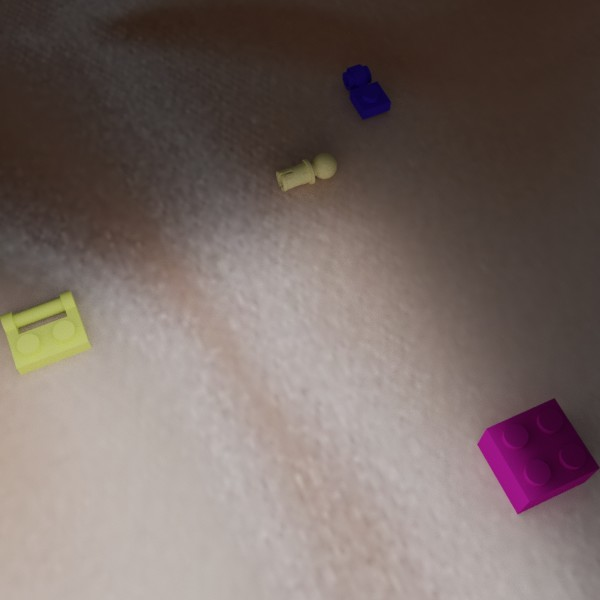lego: (477, 397, 600, 514), (0, 290, 91, 374), (342, 64, 391, 119), (276, 152, 337, 191)
